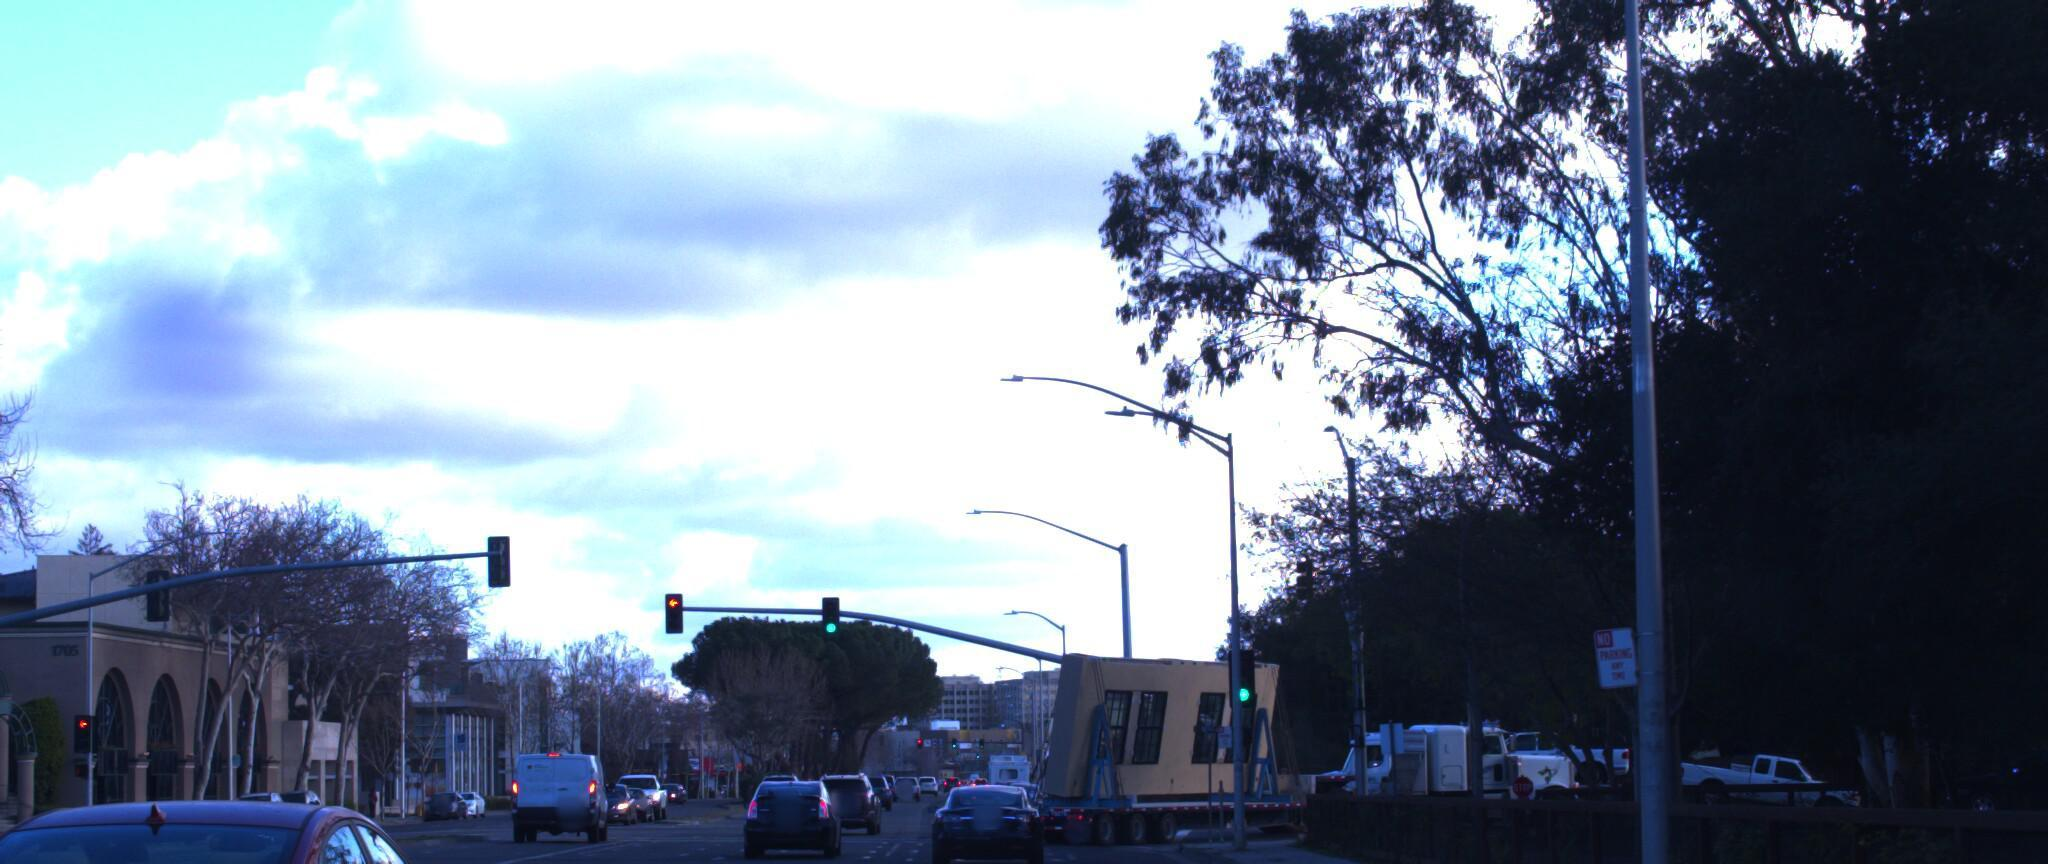car: (0, 764, 504, 864), (1668, 730, 1856, 807), (1441, 705, 1635, 767), (509, 727, 619, 824), (922, 764, 1032, 852), (744, 754, 846, 839), (815, 750, 889, 814), (0, 713, 20, 864)
other_vehicle: (987, 621, 1408, 824)
truck: (1287, 703, 1671, 804), (1365, 696, 1609, 809)
